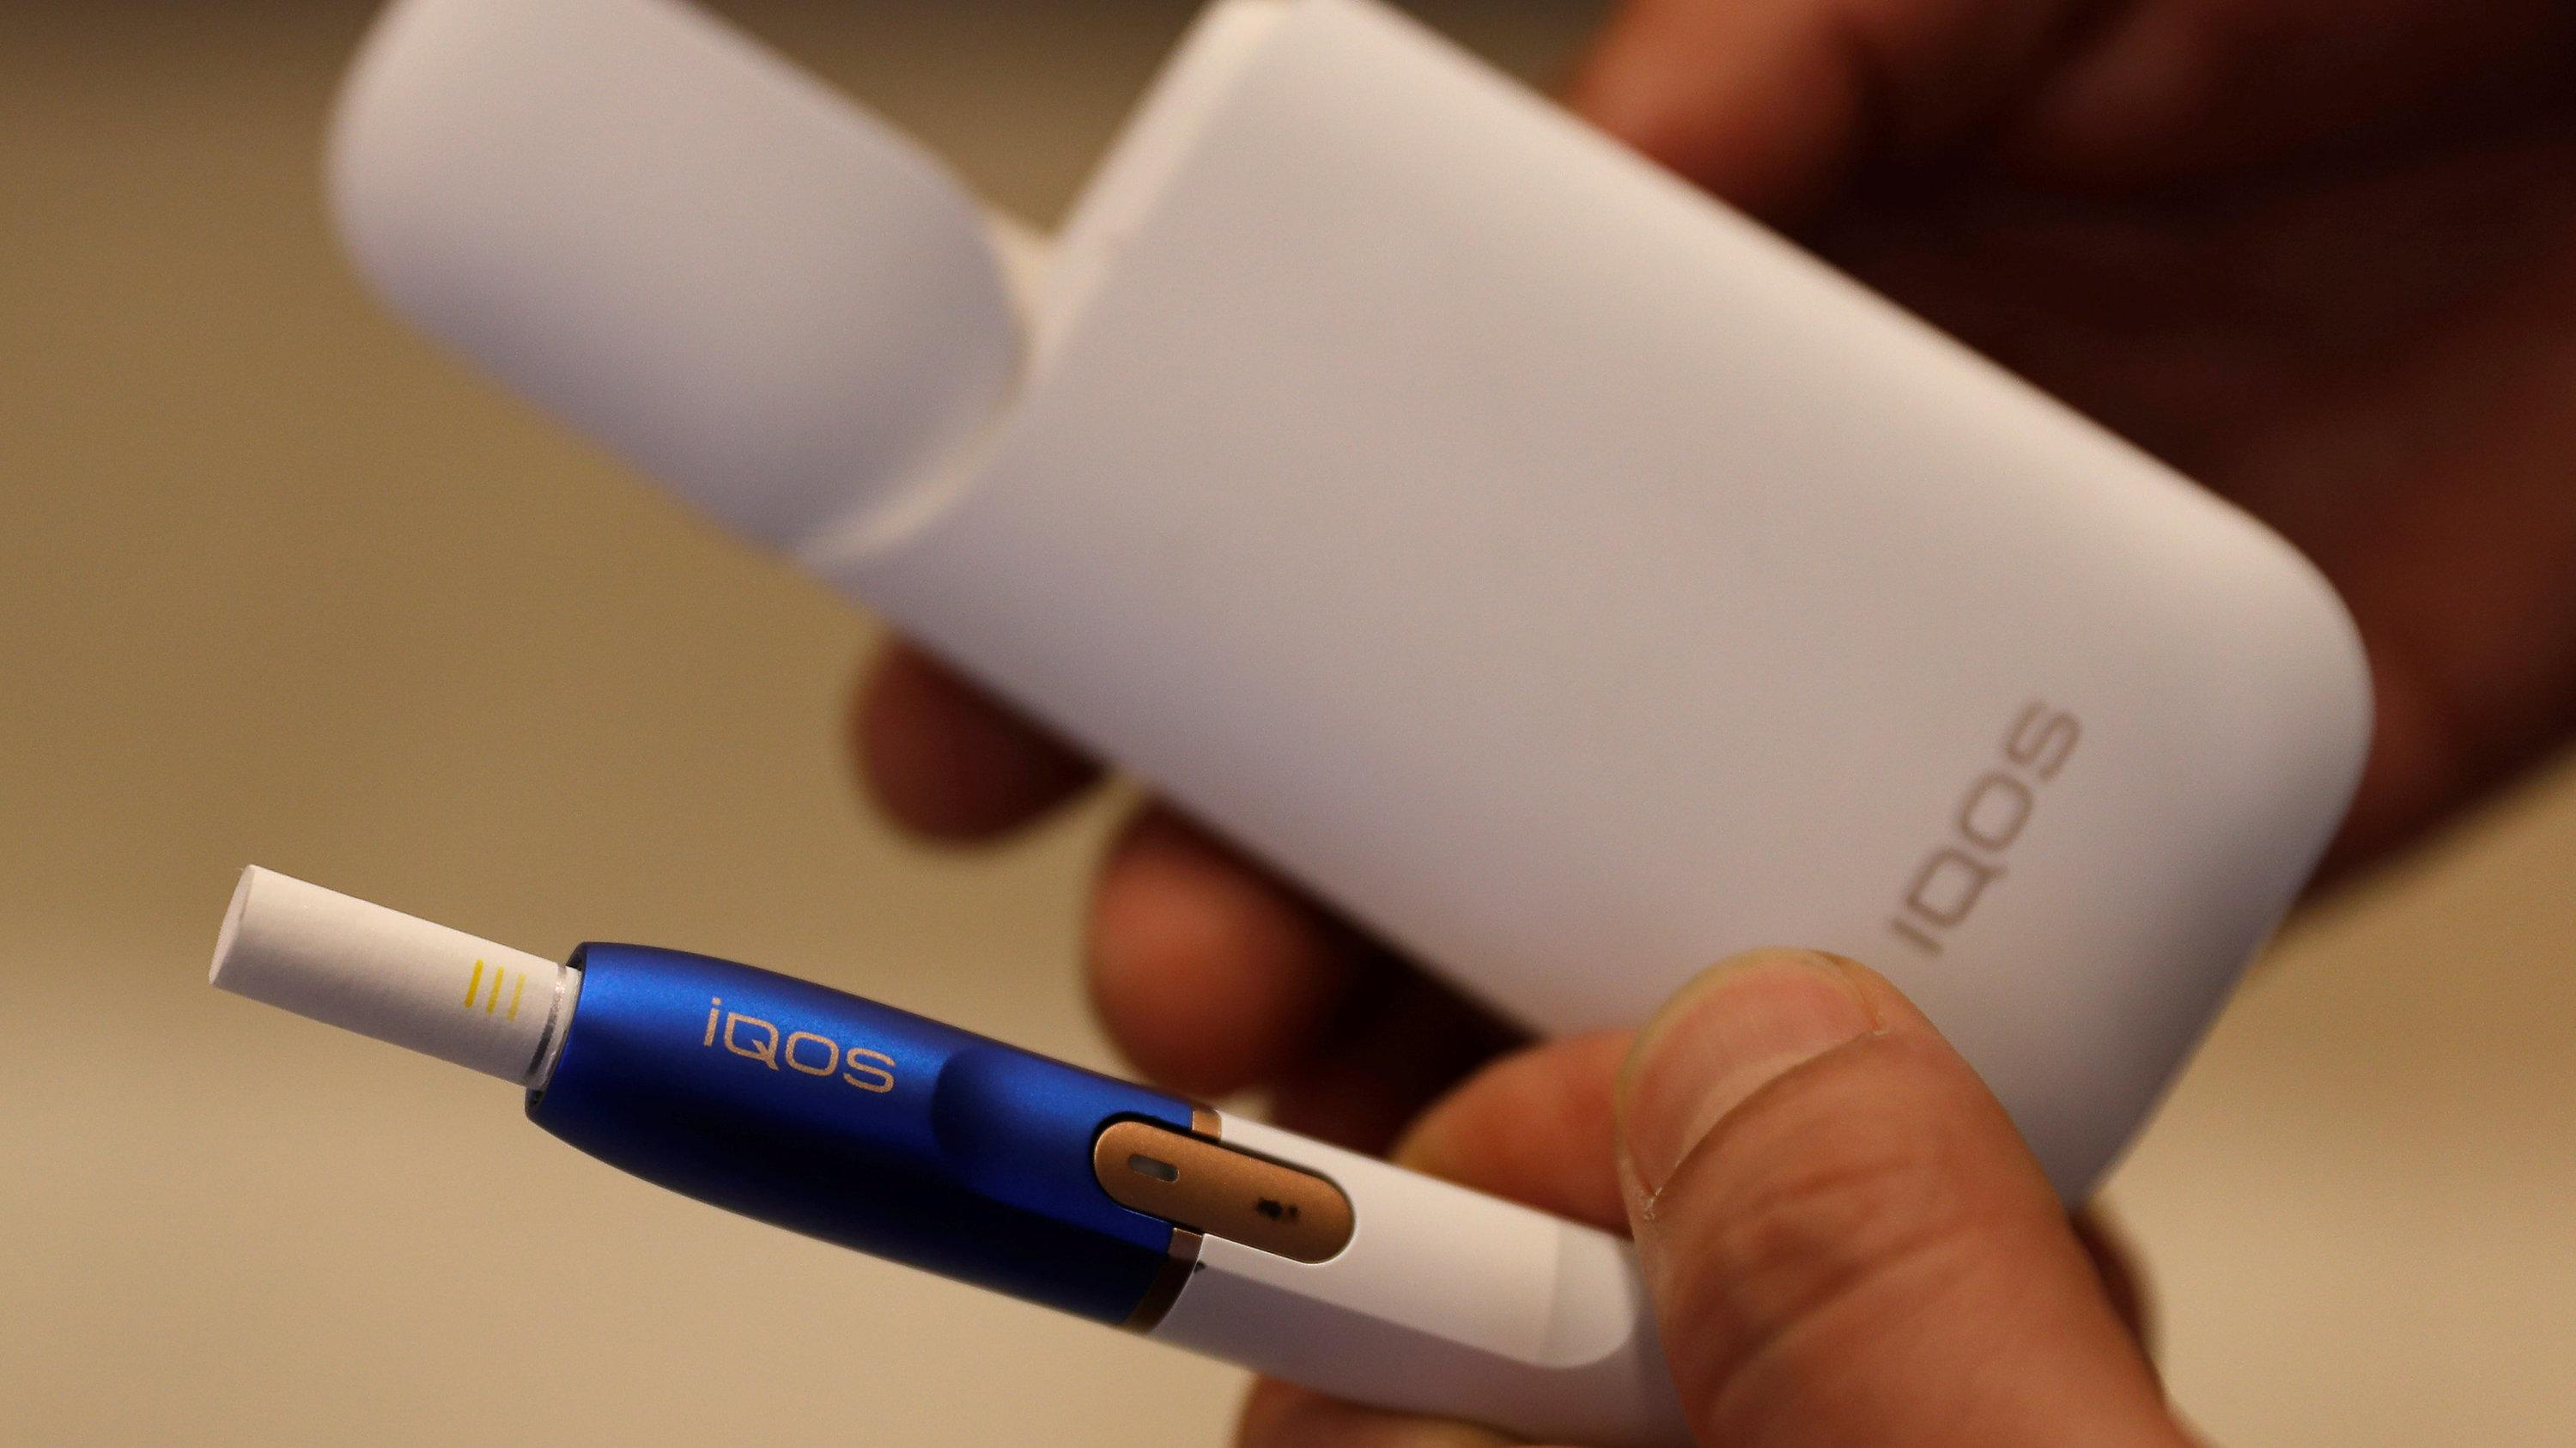iqos: (211, 867, 1684, 1441)
